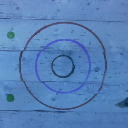Axe Tip: (113, 104, 125, 106)
